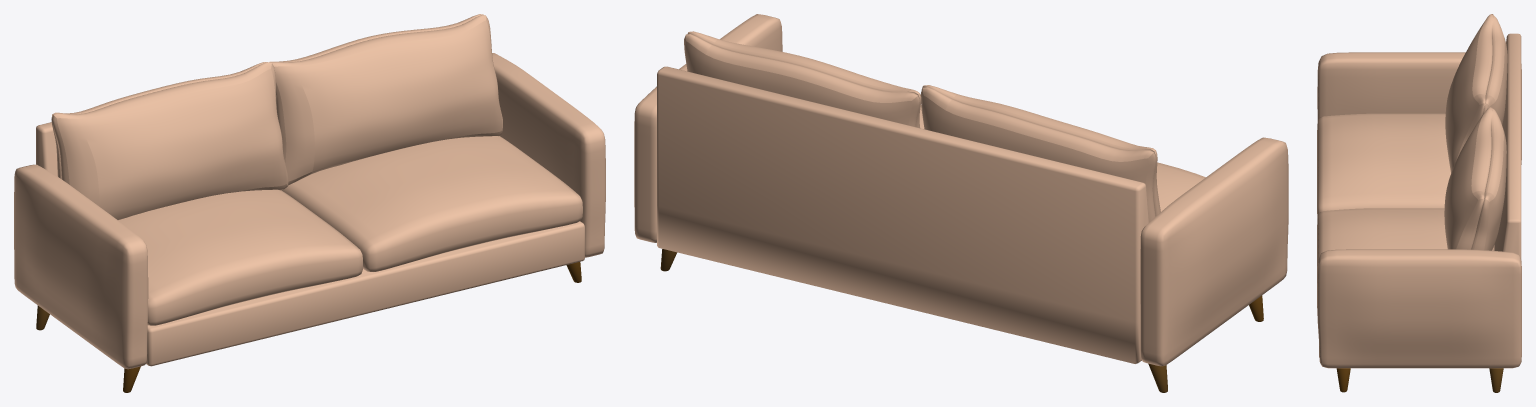
Rendered from Sofa.fbx.
3 renders of one model, left to right at view 1: azimuth 30°, elevation 25°; view 2: azimuth 150°, elevation 25°; view 3: azimuth 270°, elevation 25°, orthographic. The views are drawn at different scales.
Parts seen in each view (by area): view 1: Cube.009, Cylinder.004; view 2: Cube.009, Cylinder.006; view 3: Cube.009, Cylinder.006, Cylinder.004.
Part boxes in pixels (bbox=[...]): Cube.009: bbox=[14, 14, 605, 369]; Cylinder.004: bbox=[123, 262, 581, 392]; Cube.009: bbox=[634, 14, 1288, 366]; Cylinder.006: bbox=[660, 249, 1167, 392]; Cube.009: bbox=[1317, 14, 1521, 368]; Cylinder.006: bbox=[1489, 368, 1503, 392]; Cylinder.004: bbox=[1336, 368, 1350, 392].
Bounding box in the file's own units: 204 × 85.97 × 82.96.
